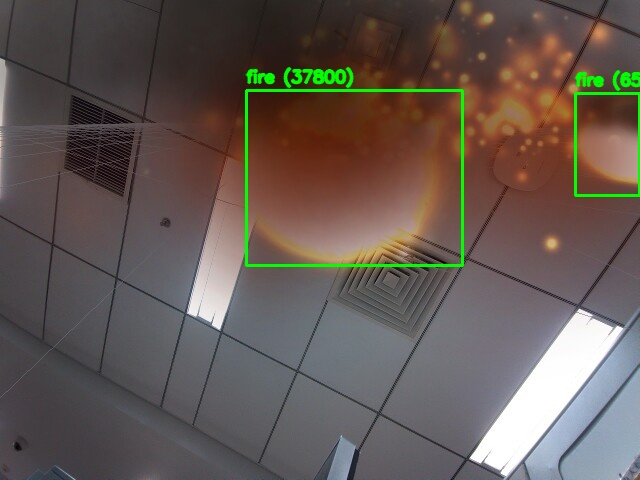fire: (246, 90, 462, 265), (575, 93, 639, 195)
